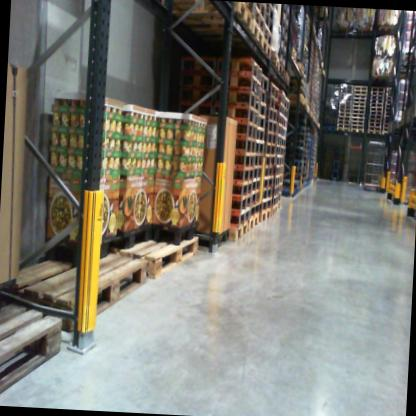pallet: (8, 236, 147, 334), (0, 288, 75, 408), (107, 228, 203, 284), (161, 0, 253, 36), (179, 14, 265, 50), (177, 55, 264, 86), (178, 66, 262, 96), (181, 83, 260, 112), (174, 99, 260, 125), (203, 112, 260, 143), (227, 220, 253, 242), (230, 135, 260, 154), (250, 5, 268, 34), (229, 192, 253, 213), (229, 205, 252, 223), (231, 165, 256, 181), (232, 152, 259, 166), (265, 48, 280, 71), (231, 179, 251, 196), (278, 64, 292, 88), (258, 40, 273, 59), (259, 86, 272, 107), (249, 188, 262, 209), (262, 24, 273, 48), (252, 4, 268, 19), (376, 22, 393, 36), (267, 83, 281, 99), (265, 14, 276, 34), (276, 59, 286, 81), (259, 198, 272, 214), (255, 141, 267, 158), (290, 45, 300, 65), (249, 179, 263, 193), (265, 120, 278, 135), (268, 95, 281, 110), (257, 112, 267, 131), (255, 165, 265, 184), (250, 210, 260, 229), (260, 74, 272, 89), (262, 162, 274, 177), (266, 108, 277, 124), (252, 202, 264, 216), (261, 188, 274, 200), (262, 176, 274, 189), (302, 41, 311, 58), (266, 131, 276, 146), (266, 6, 275, 22), (264, 155, 275, 168), (269, 203, 279, 217), (258, 102, 267, 116), (265, 145, 276, 156), (256, 130, 266, 142), (259, 209, 272, 218), (365, 130, 382, 136), (257, 155, 266, 165), (352, 104, 367, 110), (339, 104, 354, 110), (369, 85, 384, 91), (349, 112, 363, 118), (350, 120, 364, 126), (338, 115, 350, 122), (367, 126, 381, 132), (349, 108, 365, 113), (338, 100, 354, 105), (353, 85, 368, 90), (352, 93, 367, 98), (351, 97, 366, 102), (370, 95, 385, 100), (369, 107, 384, 112), (368, 114, 383, 119), (341, 92, 353, 98), (353, 89, 367, 94), (350, 125, 364, 130), (338, 112, 352, 117), (370, 90, 384, 95), (350, 128, 363, 133), (368, 118, 381, 123), (368, 122, 381, 127), (337, 126, 349, 131), (341, 84, 353, 89), (370, 99, 385, 103), (369, 103, 384, 107), (336, 125, 350, 129), (336, 121, 350, 125), (352, 101, 365, 105), (350, 117, 363, 121), (339, 109, 352, 113), (338, 98, 352, 101), (369, 111, 383, 114), (341, 88, 351, 92), (386, 88, 391, 96), (382, 123, 389, 128), (382, 128, 388, 133), (384, 111, 390, 116), (382, 119, 389, 123), (382, 116, 389, 120), (386, 95, 391, 100), (383, 130, 389, 134), (384, 107, 390, 111), (384, 103, 390, 107), (384, 99, 389, 103)
